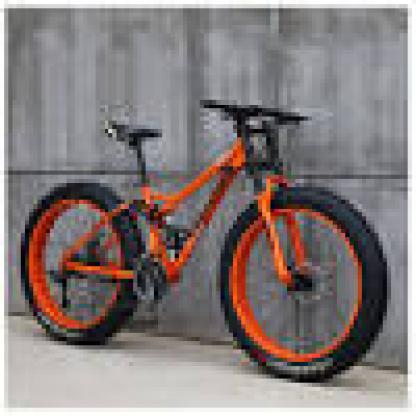Bike: (18, 96, 391, 381)
